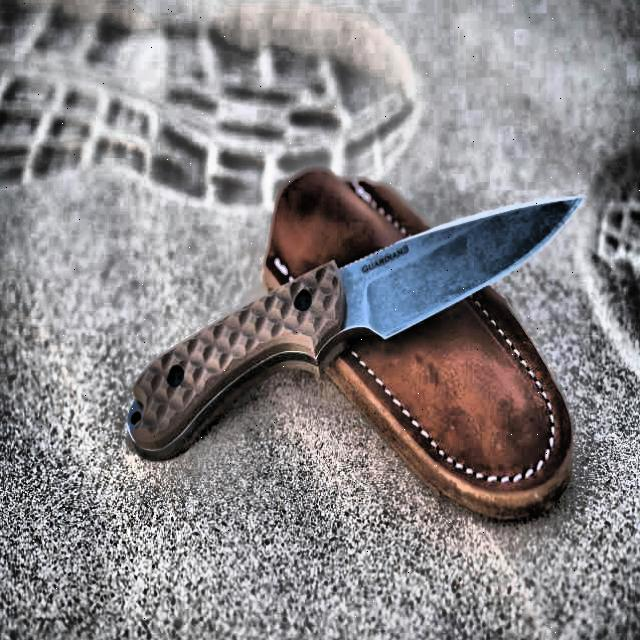knife: (125, 193, 584, 457)
